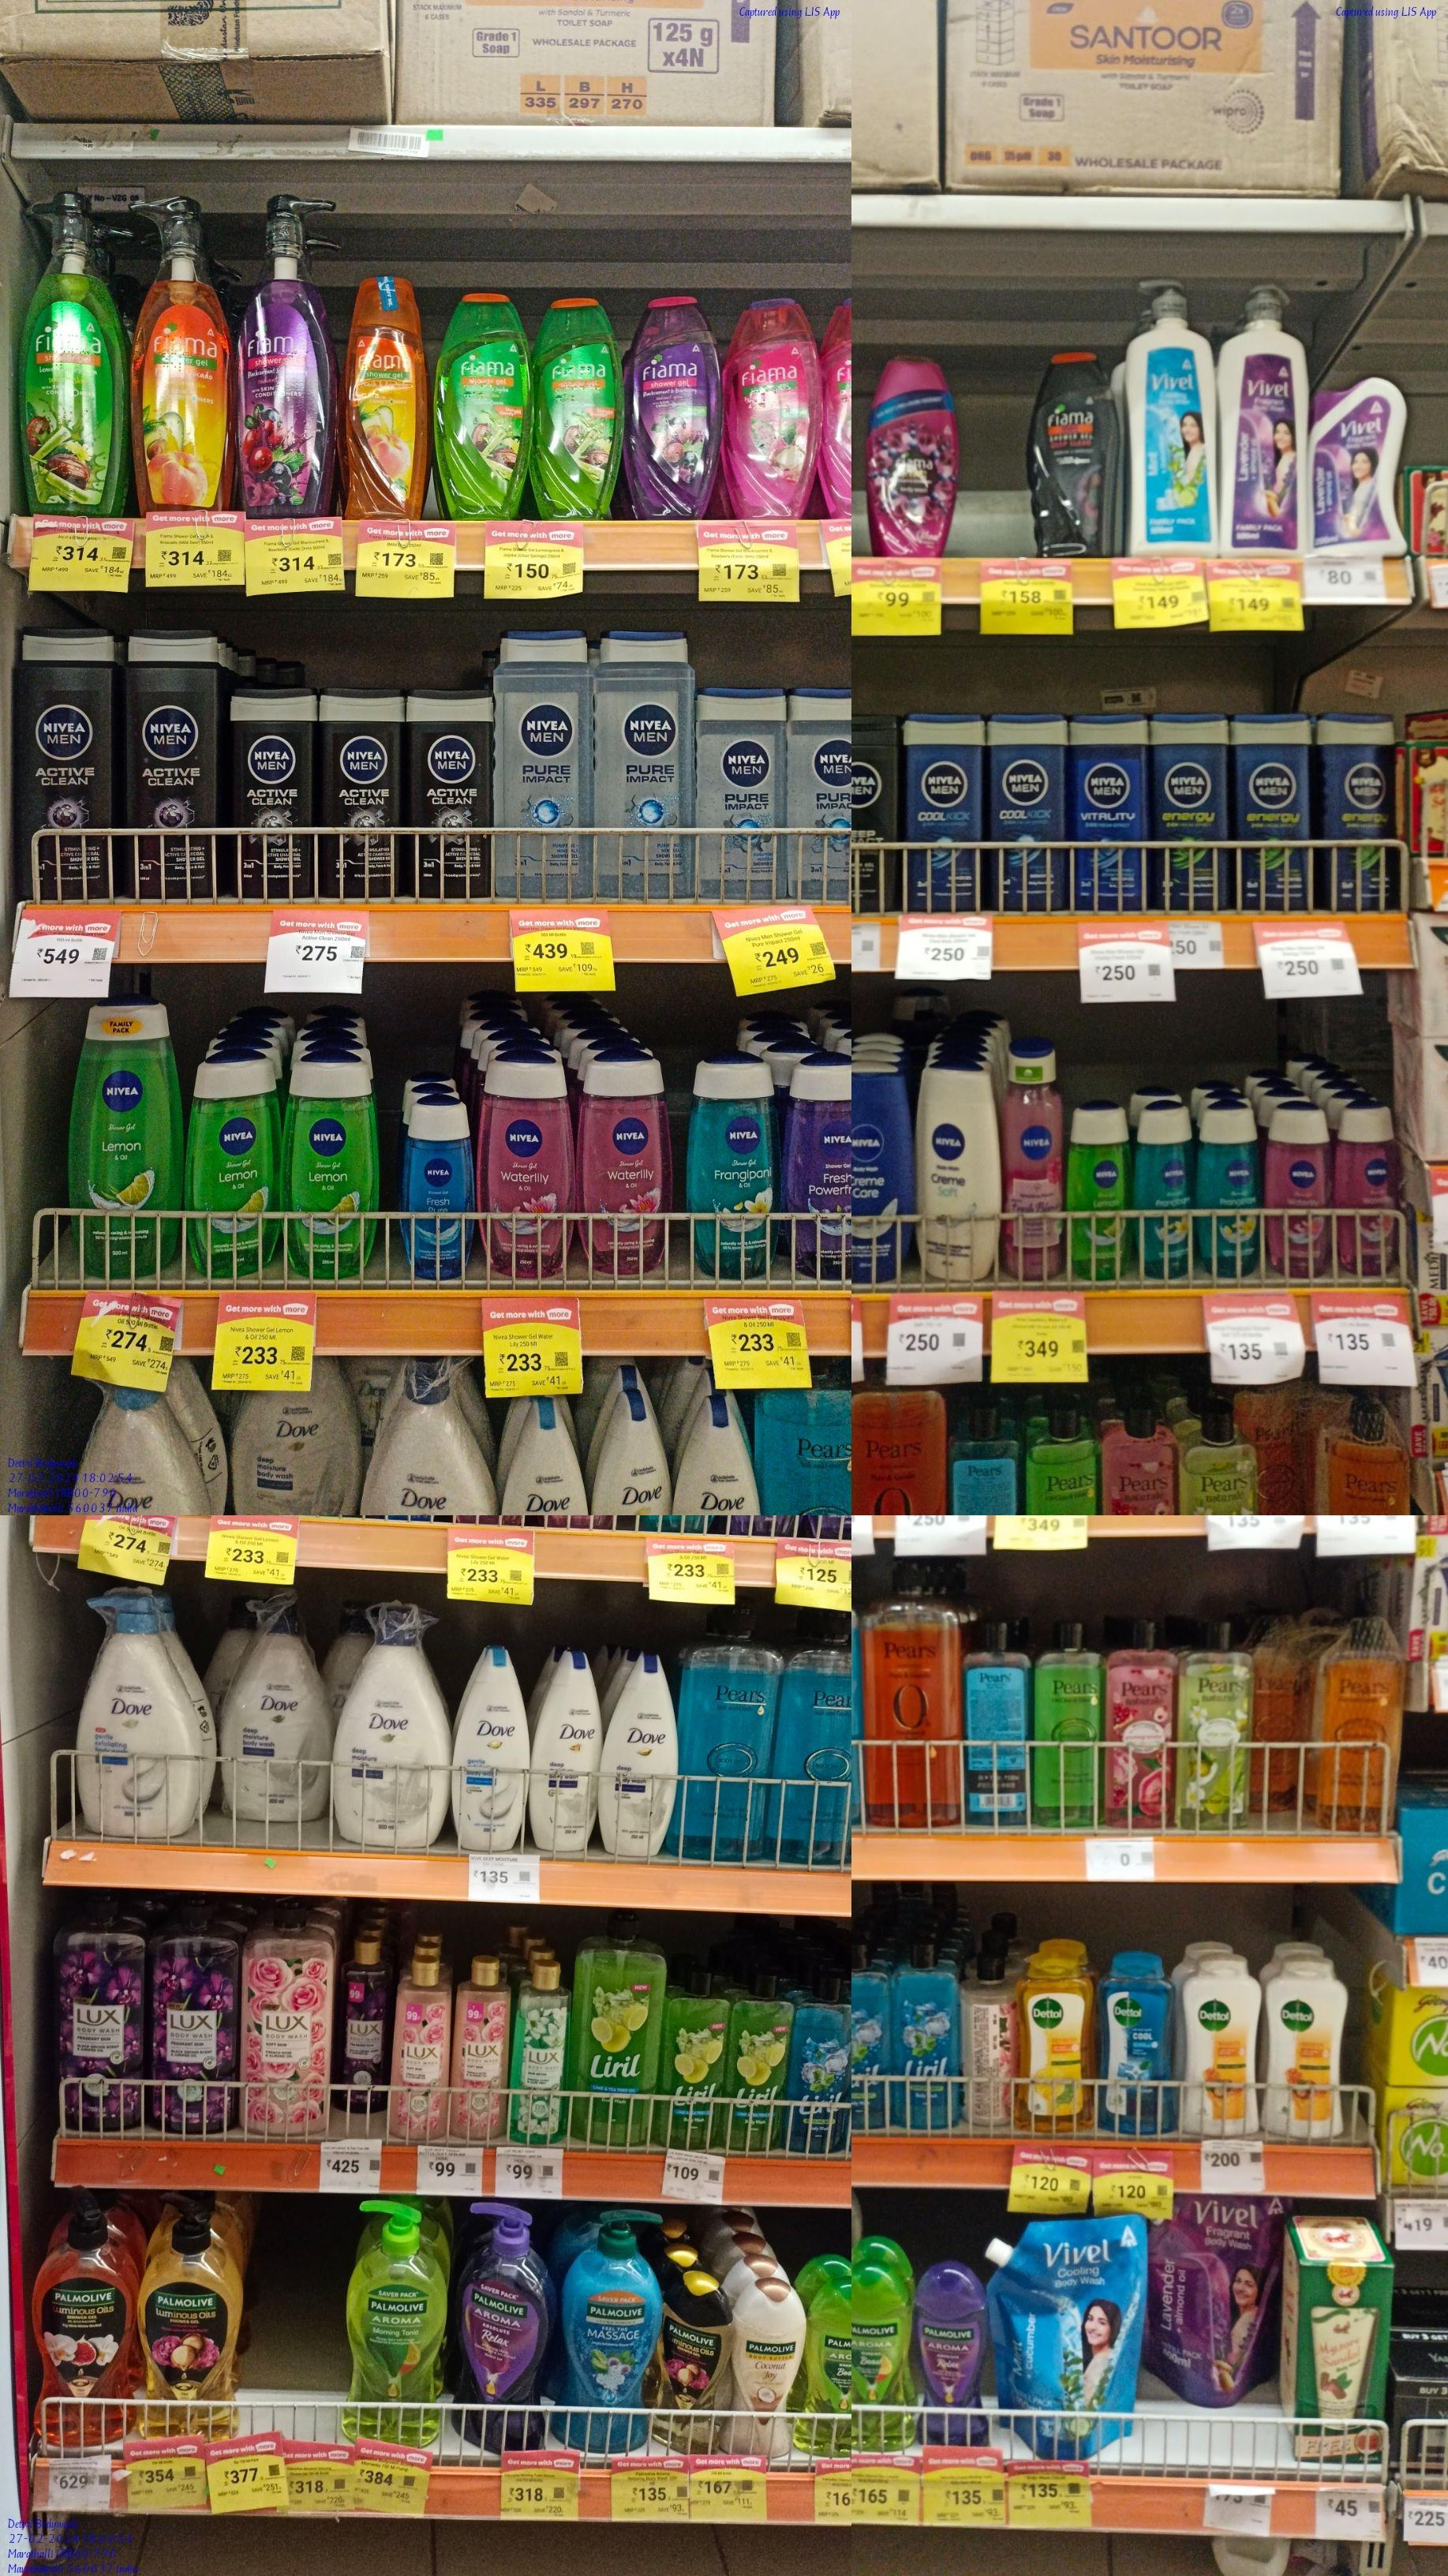Dettol_Bodywash_Cool: (1100, 1957, 1170, 2143)
Dettol_Bodywash_Refresh: (1020, 1953, 1091, 2134)
Dettol_Nourish_Body_Wash_250ML: (1268, 1959, 1345, 2139), (1185, 1957, 1257, 2137)
Dove_Deep_Moisture_Body_Wash_250ML: (605, 1649, 675, 1854), (530, 1654, 599, 1852)
Dove_Gentle_Exfoliating_Body_Wash_250ML: (456, 1644, 525, 1854)
Fiama_Shower_Gel_Lemongrass_and_Jojoba_250ML: (435, 285, 529, 518), (530, 297, 617, 522)
Fiama_Shower_Gel_Patchouli_and_Macadamia_250ML: (721, 292, 817, 518)
Fiama_Shower_Gel_Peach_and_Avocado_250ML: (341, 272, 428, 515)
Liril_Cooling_Mint_Body_Wash_250ML: (895, 1944, 960, 2134), (796, 1978, 849, 2157), (852, 1948, 889, 2132)
Liril_Lime_and_Tea_Tree_Oil_Body_Wash_250ML: (667, 1971, 728, 2155), (734, 1971, 787, 2157)
Lux_Black_Orchid_Scent_and_Juniper_Oil_Body_Wash_245ML: (341, 1941, 391, 2114)
Lux_Body_Wash_Skin_Detox_Freesia_Scent_and_Alove_Vera_245ML: (511, 1960, 566, 2146)
Nivea_Creme_Care_Body_Wash_250ML: (856, 1058, 912, 1284)
Nivea_Creme_Soft_Body_Wash_250ML: (918, 1060, 992, 1288)
Nivea_Shower_Gel_Frangipani_and_Oil_250ML: (690, 1062, 787, 1279)
Nivea_Shower_Gel_Fresh_Powerfruit_250ML: (787, 1054, 852, 1283)
Nivea_Shower_Gel_Lemon_and_Oil_250ML: (65, 998, 184, 1281), (286, 1056, 373, 1279), (196, 1047, 279, 1274)
Nivea_Shower_Gel_Waterlily_and_Oil_250ML: (474, 1042, 573, 1284), (573, 1049, 665, 1276)
Palmolive_Aroma_Morning_Tonic_Shower_Gel_250ML: (852, 2268, 911, 2454), (808, 2284, 852, 2457)
Palmolive_Aroma_Relax_250ML: (918, 2266, 988, 2449)
Palmolive_Coconut_Joy_Exfoliating_Body_Wash_250ML: (730, 2288, 801, 2465)
Palmolive_Luminous_Oils_Invigorating_Macadamia_Oil_With_Peony_250ML: (663, 2273, 725, 2463)
Pears_Naturale_Aloe_Vera_Body_Wash_250ML: (1181, 1606, 1252, 1833)
Pears_Pure_Glycerin_and_Lemon_Flower_Extracts_Body_Wash_250ML: (1034, 1624, 1101, 1835)
